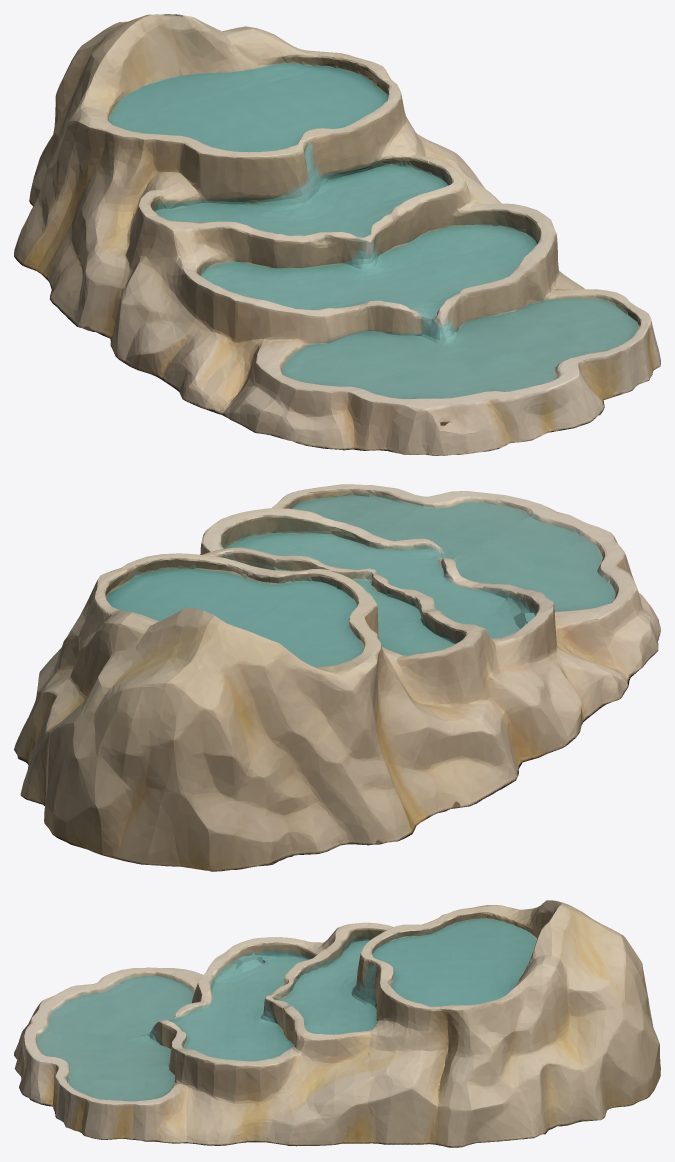
3 renders of one model, top to bottom at view 1: azimuth 30°, elevation 25°; view 2: azimuth 150°, elevation 25°; view 3: azimuth 270°, elevation 25°, orthographic. The views are drawn at different scales.
Parts seen in each view (by area): view 1: world; view 2: world; view 3: world.
Boxes of the visible parts, x1,y1,x2,y2 form: world: (14,14,660,455); world: (14,484,660,871); world: (14,900,660,1147).
Bounding box in the file's own units: 0.5914 × 0.2632 × 0.9964.
1 material, 1 textured.
